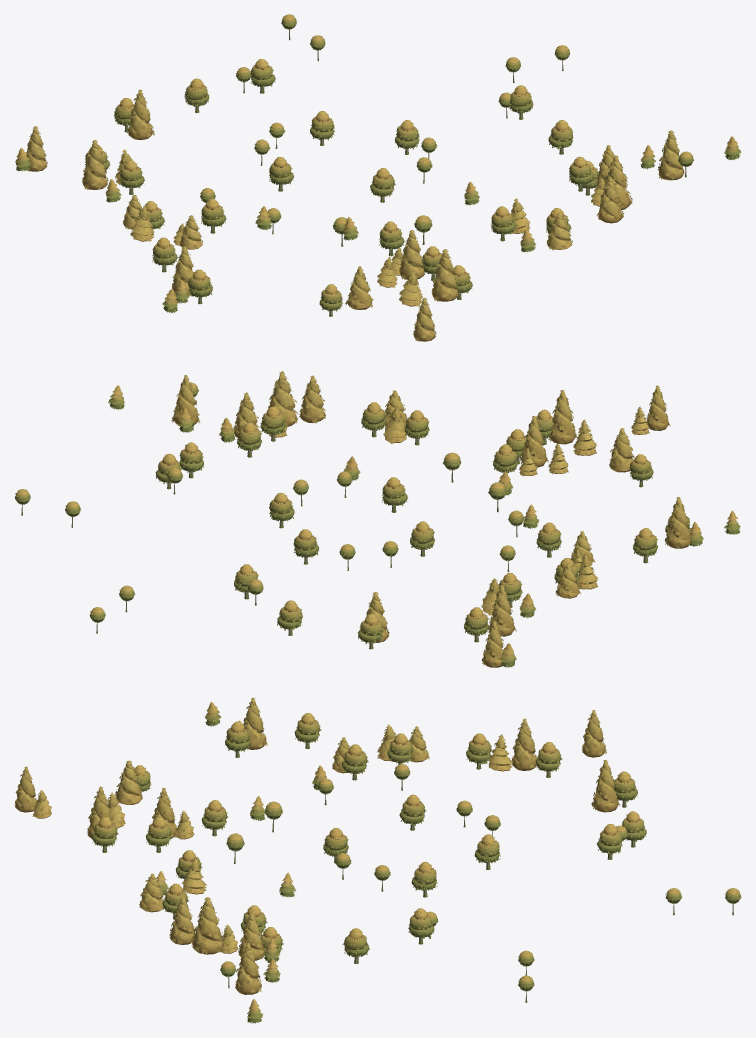
Rendered from pref_sm_garden_tree_vertexcolor_05_lv2.fbx.
3 views of the same model, one above another, from view 1: azimuth 30°, elevation 25°; view 2: azimuth 150°, elevation 25°; view 3: azimuth 270°, elevation 25° (orthographic). The views are drawn at different scales.
Parts seen in each view (by area): view 1: pref_sm_garden_tree_vertexcolor_05_lv2; view 2: pref_sm_garden_tree_vertexcolor_05_lv2; view 3: pref_sm_garden_tree_vertexcolor_05_lv2.
Part boxes in pixels (<box>): pref_sm_garden_tree_vertexcolor_05_lv2: <box>15,14,740,341</box>; pref_sm_garden_tree_vertexcolor_05_lv2: <box>15,371,740,667</box>; pref_sm_garden_tree_vertexcolor_05_lv2: <box>14,697,741,1023</box>.
Size of the model in its own units: 66.71 by 6.58 by 68.04.
